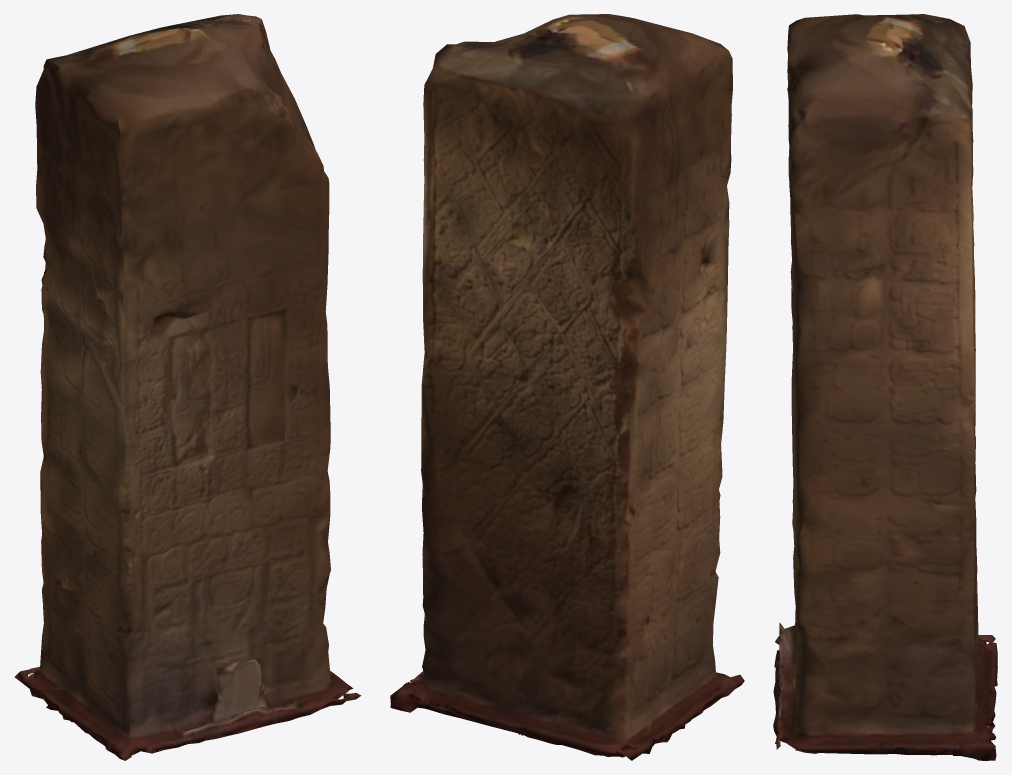
File: stela-copan.lod0.glb
The picture shows the model from 3 angles, left to right: view 1: azimuth 30°, elevation 25°; view 2: azimuth 150°, elevation 25°; view 3: azimuth 270°, elevation 25°; orthographic projection. The views are drawn at different scales.
Visible parts, largest first — view 1: Object_2; view 2: Object_2; view 3: Object_2.
Part boxes in pixels (x1,y1,x2,y2): Object_2: [14, 14, 361, 760]; Object_2: [390, 14, 744, 760]; Object_2: [773, 14, 997, 760].
Size of the model in its own units: 1.52 by 4 by 1.23.
1 material, 1 textured.
